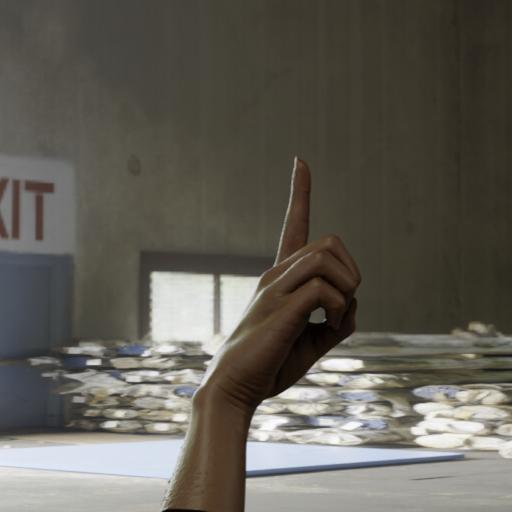D: (172, 130, 388, 436)
